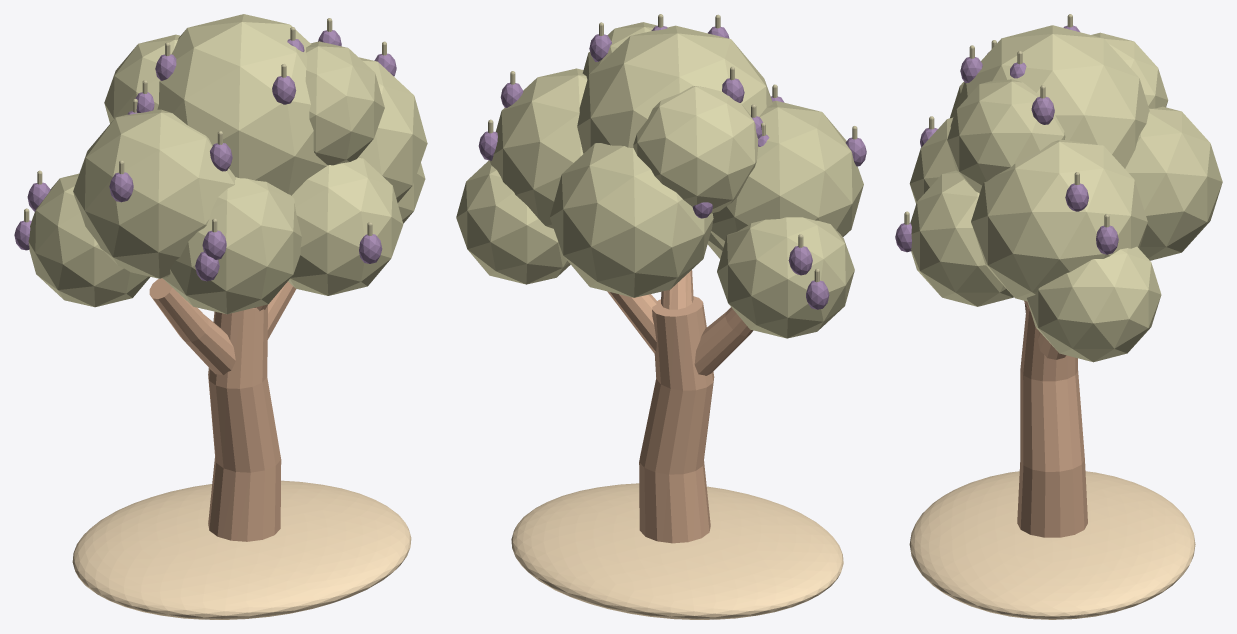
File: mulberry_tree.glb
The picture shows the model from 3 angles, left to right: view 1: azimuth 30°, elevation 25°; view 2: azimuth 150°, elevation 25°; view 3: azimuth 270°, elevation 25°; orthographic projection. The views are drawn at different scales.
Parts seen in each view (by area): view 1: Base, Canopy_0, Canopy_1, Trunk, Canopy_3, Canopy_4, Canopy_5, Canopy_9, Canopy_2, Branch_L, Canopy_8, Branch_R (+4 smaller); view 2: Base, Canopy_7, Trunk, Canopy_0, Canopy_1, Canopy_5, Canopy_8, Canopy_2, Canopy_6, Branch_L, Branch_R, Canopy_9 (+2 smaller); view 3: Base, Canopy_2, Canopy_0, Trunk, Canopy_6, Canopy_7, Canopy_4, Canopy_9, Canopy_3, Canopy_8, Berry_5, Berry_4 (+1 smaller).
Part boxes in pixels (box(x1,y1,x2,y2)): Base: box(72, 480, 411, 619); Canopy_0: box(157, 14, 327, 195); Canopy_1: box(73, 109, 235, 278); Trunk: box(208, 305, 281, 541); Canopy_3: box(162, 177, 301, 314); Canopy_4: box(288, 157, 403, 295); Canopy_5: box(28, 173, 150, 307); Canopy_9: box(305, 41, 384, 165); Canopy_2: box(358, 57, 427, 202); Branch_L: box(149, 278, 235, 375); Canopy_8: box(104, 34, 180, 123); Branch_R: box(267, 281, 296, 339); Base: box(511, 483, 843, 619); Canopy_7: box(550, 143, 713, 297); Trunk: box(639, 296, 714, 543); Canopy_0: box(577, 25, 772, 153); Canopy_1: box(711, 100, 863, 247); Canopy_5: box(717, 217, 854, 338); Canopy_8: box(633, 86, 758, 213); Canopy_2: box(490, 68, 587, 228); Canopy_6: box(456, 160, 570, 284); Branch_L: box(694, 307, 753, 375); Branch_R: box(607, 291, 656, 353); Canopy_9: box(582, 22, 657, 79); Base: box(909, 471, 1195, 619); Canopy_2: box(971, 140, 1147, 301); Canopy_0: box(950, 25, 1149, 168); Trunk: box(1017, 306, 1087, 537); Canopy_6: box(1026, 246, 1161, 362); Canopy_7: box(1125, 106, 1222, 260); Canopy_4: box(910, 170, 1013, 306); Canopy_9: box(947, 79, 1065, 193); Canopy_3: box(909, 117, 956, 203); Canopy_8: box(1091, 32, 1168, 108); Berry_5: box(1096, 225, 1118, 254); Berry_4: box(1065, 183, 1088, 211).
Bounding box in the file's own units: 1.26 × 1.73 × 0.9625.
